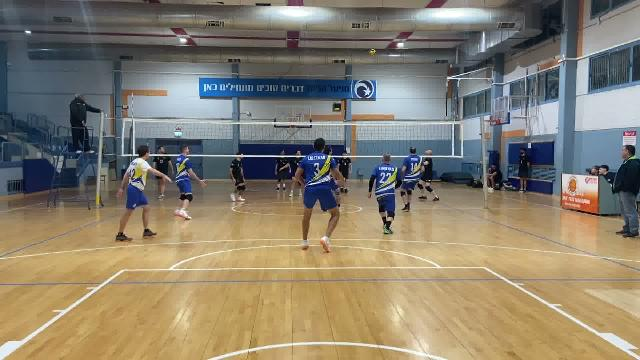ball: (368, 49, 377, 57)
